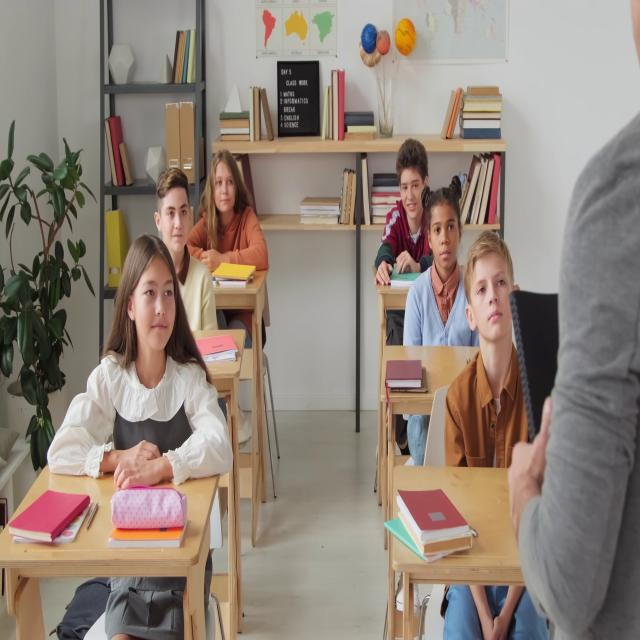listening: (44, 238, 234, 632), (192, 148, 274, 440), (442, 236, 530, 470), (404, 184, 478, 354), (157, 166, 221, 332), (374, 137, 432, 288)
